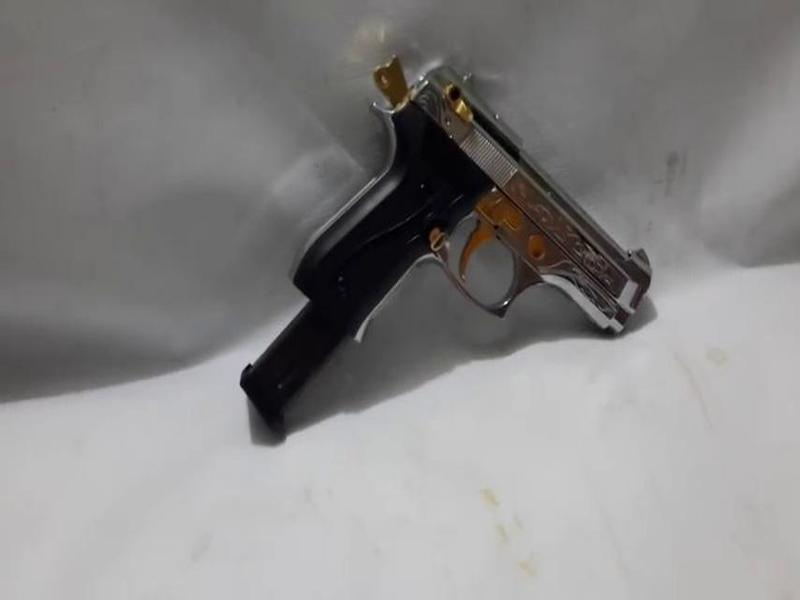Pistola: (286, 53, 647, 390)
